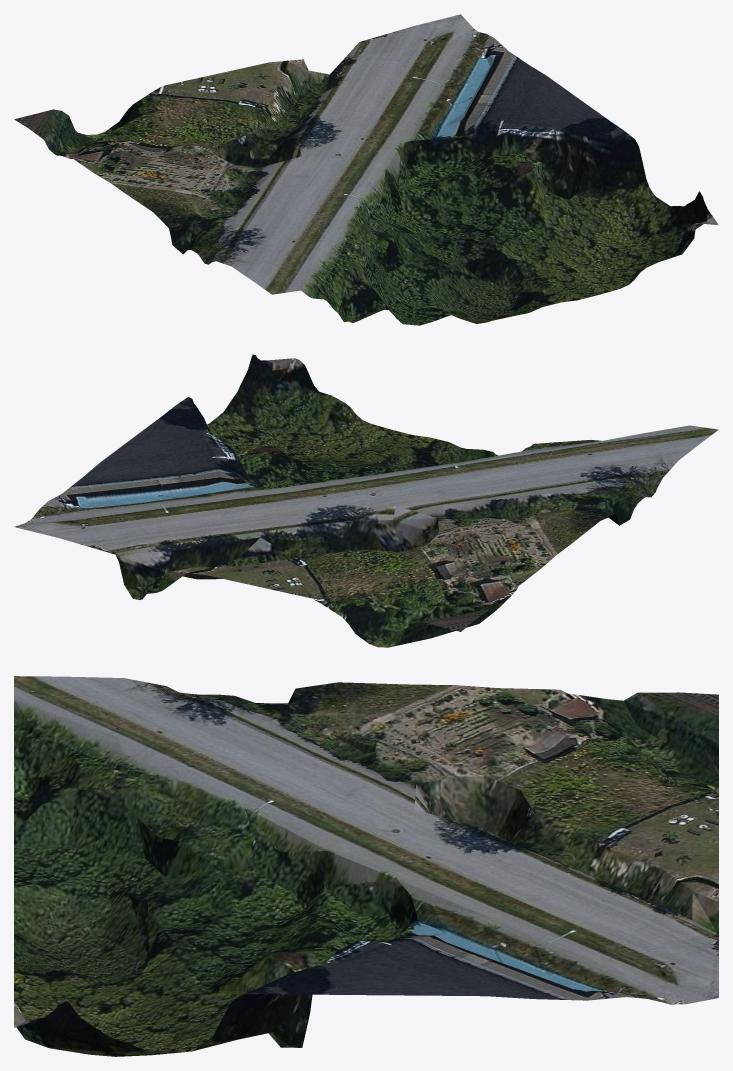
The model's file is map_15_8179_13783.dae.
3 views of the same model, one above another, from view 1: azimuth 30°, elevation 25°; view 2: azimuth 150°, elevation 25°; view 3: azimuth 270°, elevation 25° (orthographic). The views are drawn at different scales.
Parts seen in each view (by area): view 1: Ter0; view 2: Ter0; view 3: Ter0.
Boxes of the visible parts, x1=… form: Ter0: x1=14, y1=14, x2=718, y2=325; Ter0: x1=14, y1=354, x2=718, y2=647; Ter0: x1=14, y1=676, x2=718, y2=1056.
Size of the model in its own units: 63.87 by 63.88 by 12.72.
Materials: 2 (2 with a texture image).
